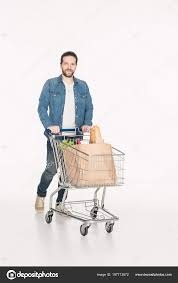with_basket: (43, 122, 125, 233)
without_mask: (59, 52, 78, 77)
